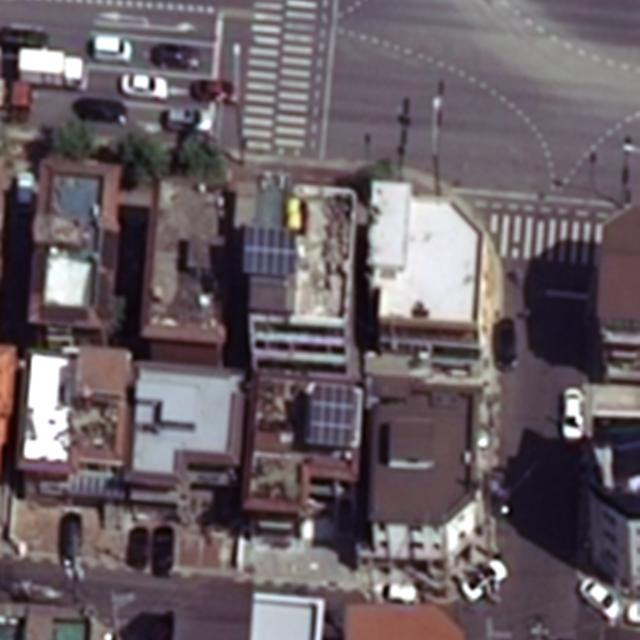panel: (242, 223, 299, 275), (309, 383, 355, 446)
